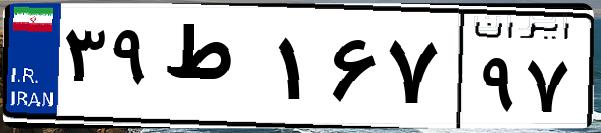1: (270, 28, 330, 110)
3: (57, 26, 110, 100)
6: (330, 28, 385, 110)
7: (385, 28, 445, 110), (525, 38, 570, 115)
9: (475, 38, 525, 113), (110, 28, 158, 98)
ط: (158, 20, 270, 120)
